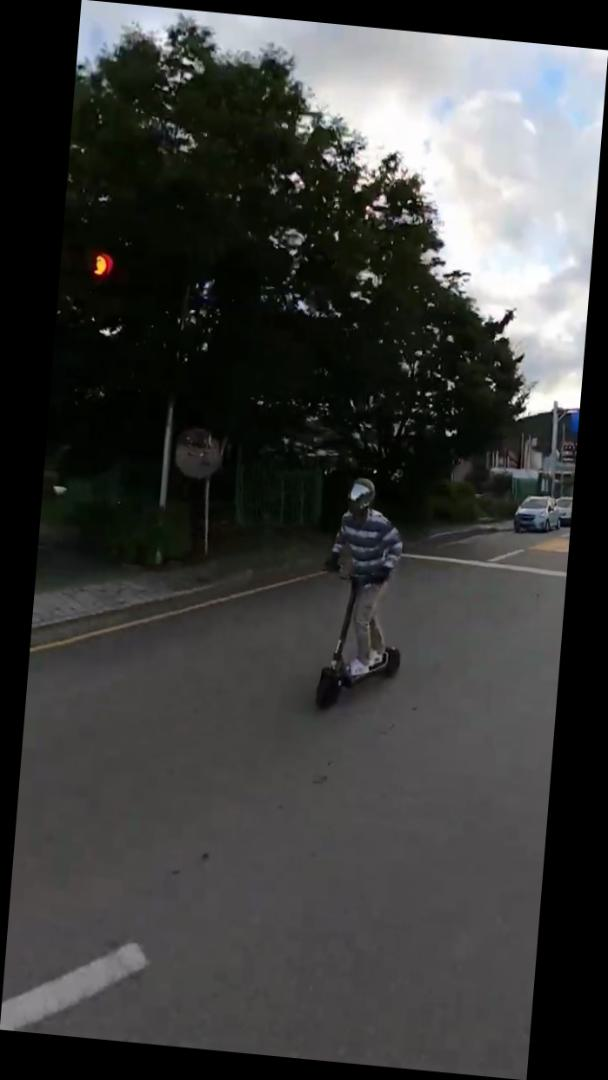helmet: (308, 472, 416, 720)
